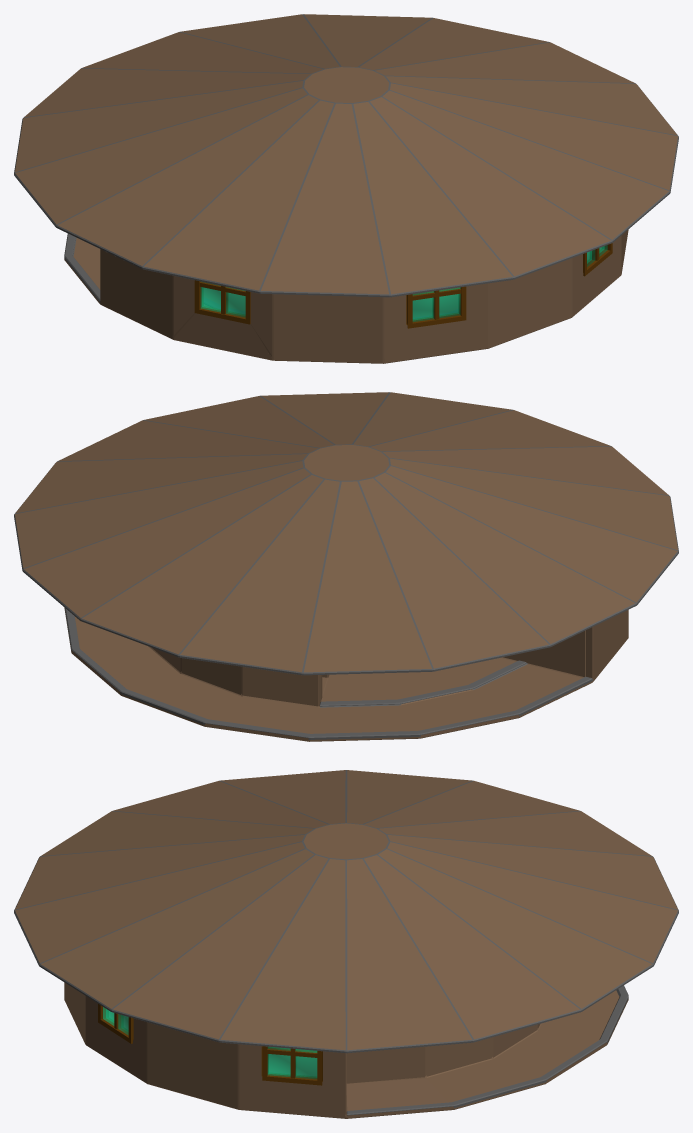
The model's file is COD_StartScene_Object.fbx.
3 views of the same model, one above another, from view 1: azimuth 30°, elevation 25°; view 2: azimuth 150°, elevation 25°; view 3: azimuth 270°, elevation 25° (orthographic).
Parts seen in each view (by area): view 1: Start; view 2: Start; view 3: Start.
Boxes of the visible parts, x1,y1,x2,y2 form: Start: (14,14,678,363); Start: (14,392,678,741); Start: (14,770,678,1118).
Bounding box in the file's own units: 5994 × 1577 × 5994.
